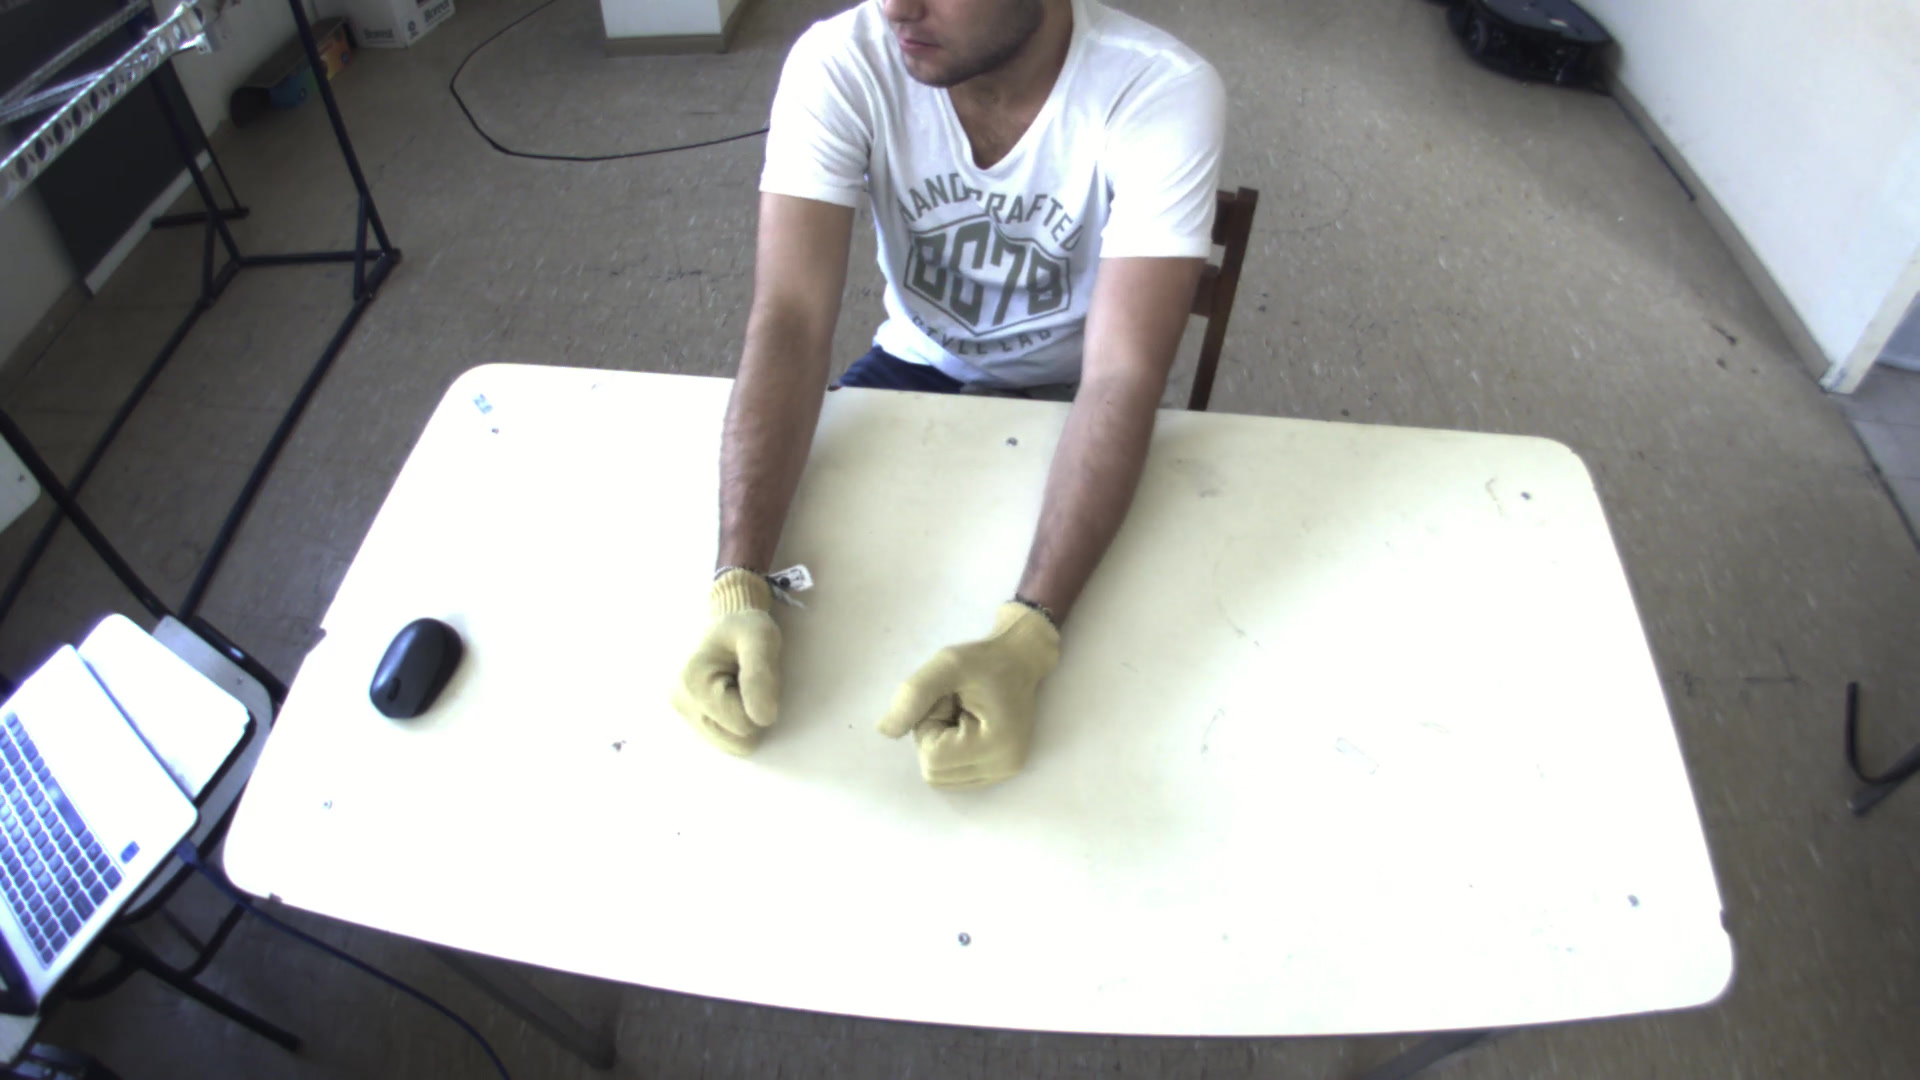hand: (874, 593, 1079, 804), (657, 562, 799, 761)
